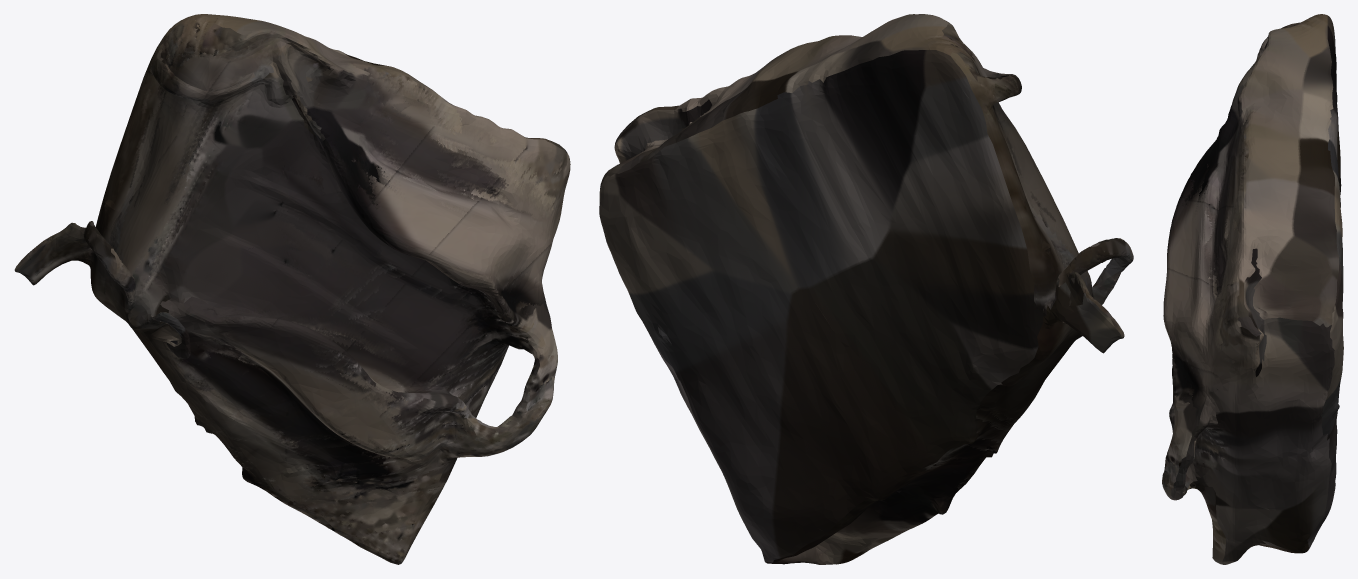
Rendered from backpack.glb.
3 renders of one model, left to right at view 1: azimuth 30°, elevation 25°; view 2: azimuth 150°, elevation 25°; view 3: azimuth 270°, elevation 25°, orthographic. The views are drawn at different scales.
Visible parts, largest first — view 1: backpack.obj; view 2: backpack.obj; view 3: backpack.obj.
Boxes of the visible parts, x1=… form: backpack.obj: x1=14, y1=14, x2=570, y2=564; backpack.obj: x1=599, y1=14, x2=1133, y2=564; backpack.obj: x1=1162, y1=14, x2=1343, y2=564.
Size of the model in its own units: 0.5784 by 0.5908 by 0.2012.
Materials: 1 (1 with a texture image).
